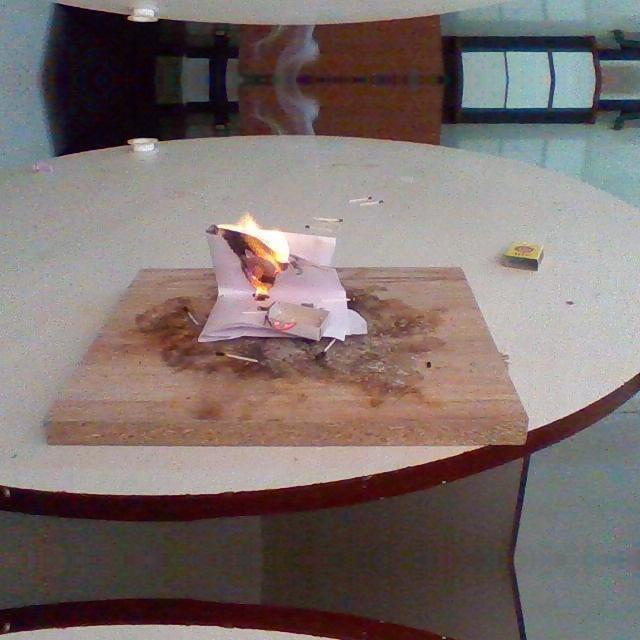fire: (246, 9, 328, 212)
smoke: (216, 212, 292, 264)
